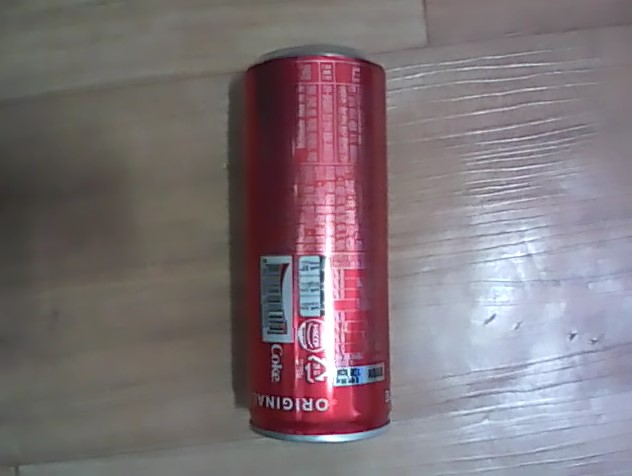Can: (220, 38, 397, 448)
